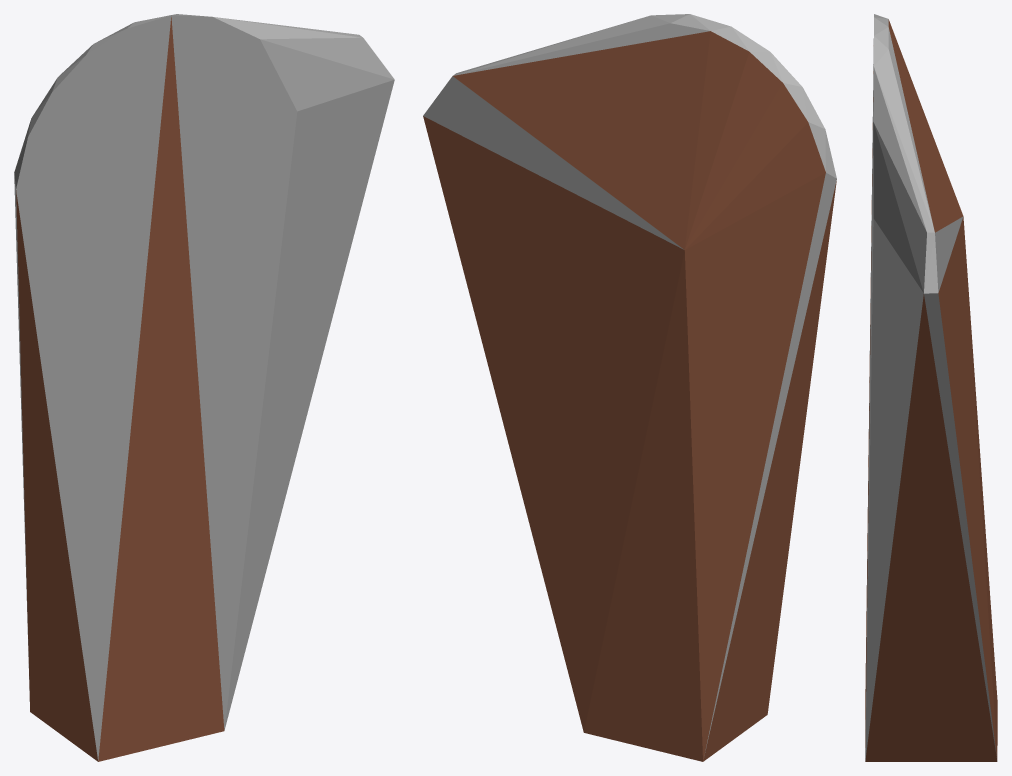
Rendered from Windmill.lod4.glb.
3 views of the same model, side by side, from view 1: azimuth 30°, elevation 25°; view 2: azimuth 150°, elevation 25°; view 3: azimuth 270°, elevation 25° (orthographic). The views are drawn at different scales.
Parts seen in each view (by area): view 1: Windmill; view 2: Windmill; view 3: Windmill.
Boxes of the visible parts, x1,y1,x2,y2 form: Windmill: [14, 14, 394, 761]; Windmill: [423, 14, 836, 761]; Windmill: [865, 14, 997, 761].
Size of the model in its own units: 6.55 by 11.2 by 1.91.
